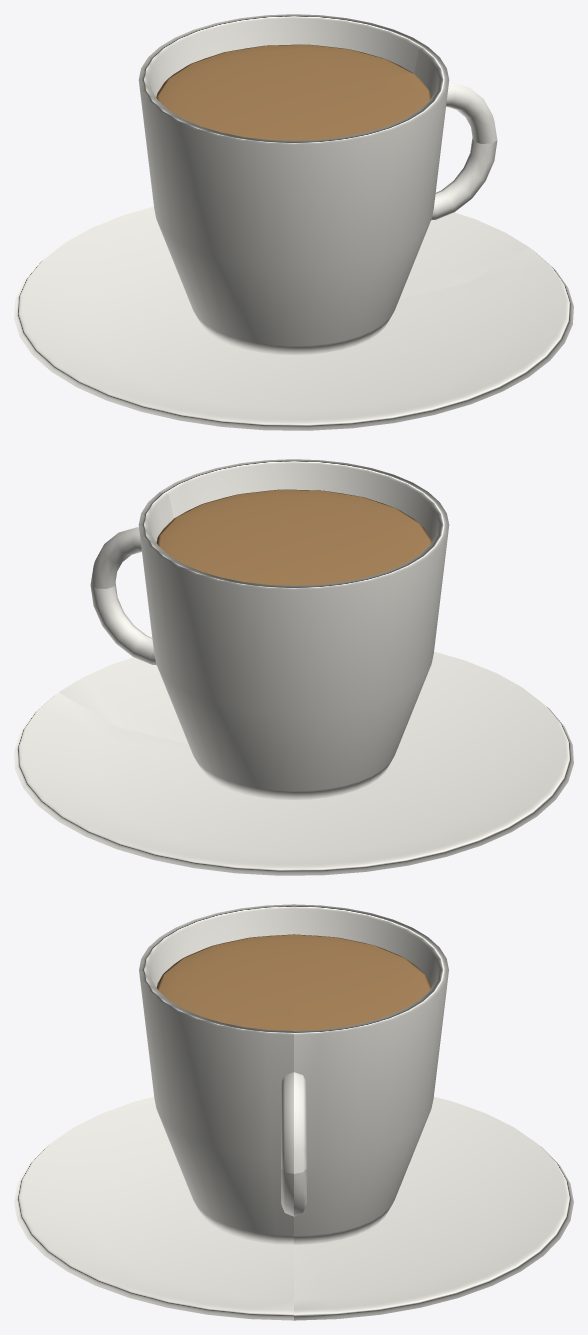
The model's file is americano.glb.
3 renders of one model, top to bottom at view 1: azimuth 30°, elevation 25°; view 2: azimuth 150°, elevation 25°; view 3: azimuth 270°, elevation 25°, orthographic.
Parts seen in each view (by area): view 1: americano; view 2: americano; view 3: americano.
Part boxes in pixels (x1,y1,x2,y2): americano: (14, 14, 573, 430); americano: (14, 459, 573, 875); americano: (14, 904, 573, 1320).
Size of the model in its own units: 0.13 by 0.066 by 0.13.
